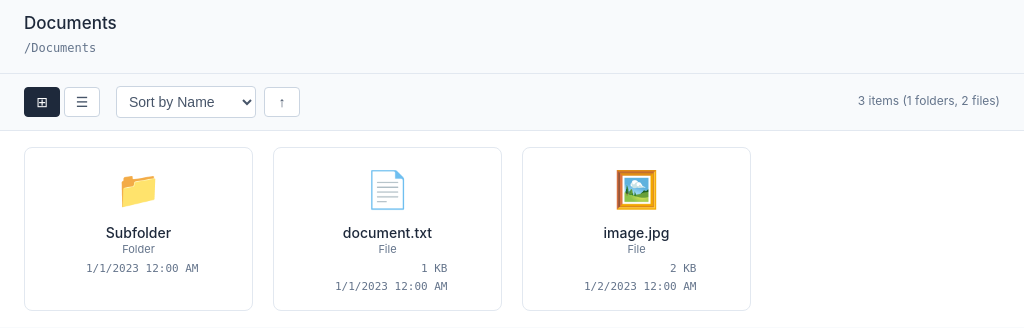
FolderContents › toggles sort order
Note: Toggle to descending
Click the button with class "sort-order-button" at (282, 102), box [264,87,300,117]
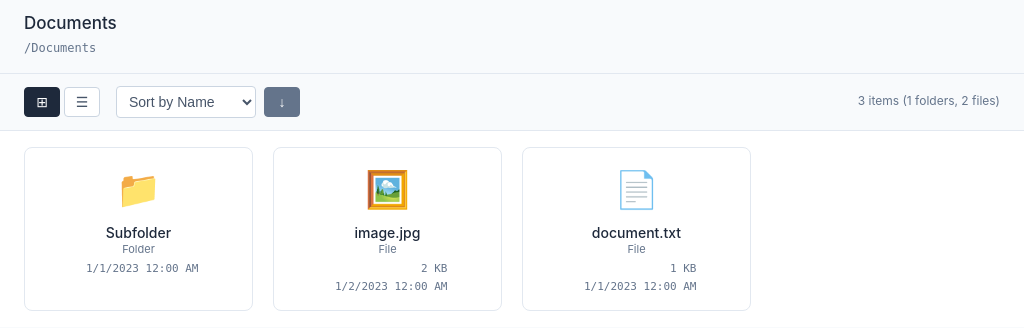
Result: the button with class "sort-order-button" reads "↓" at [264,87,300,117]
